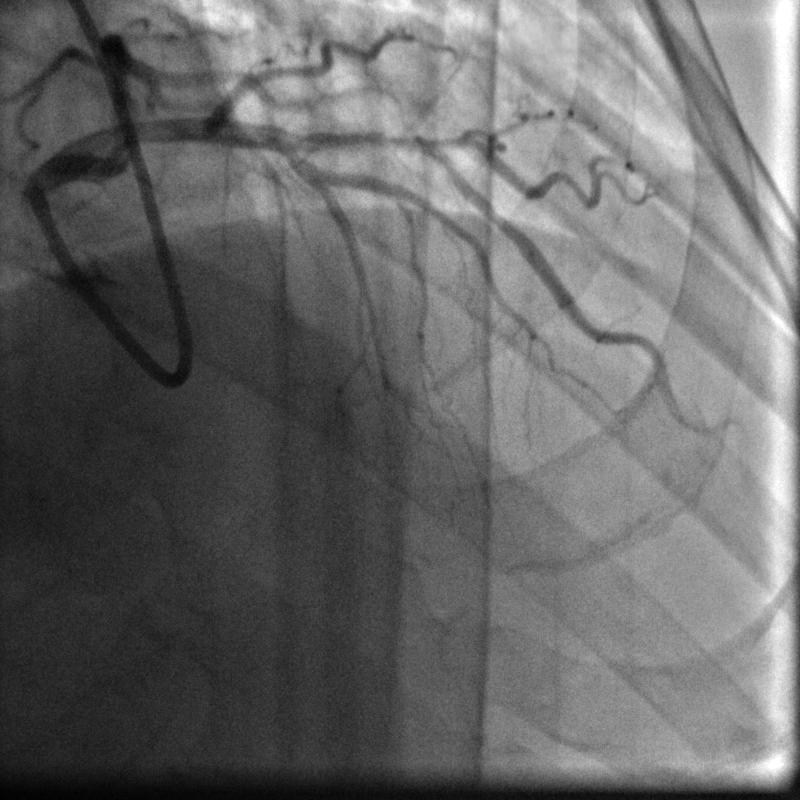Stenosis: (356, 127, 414, 156)
